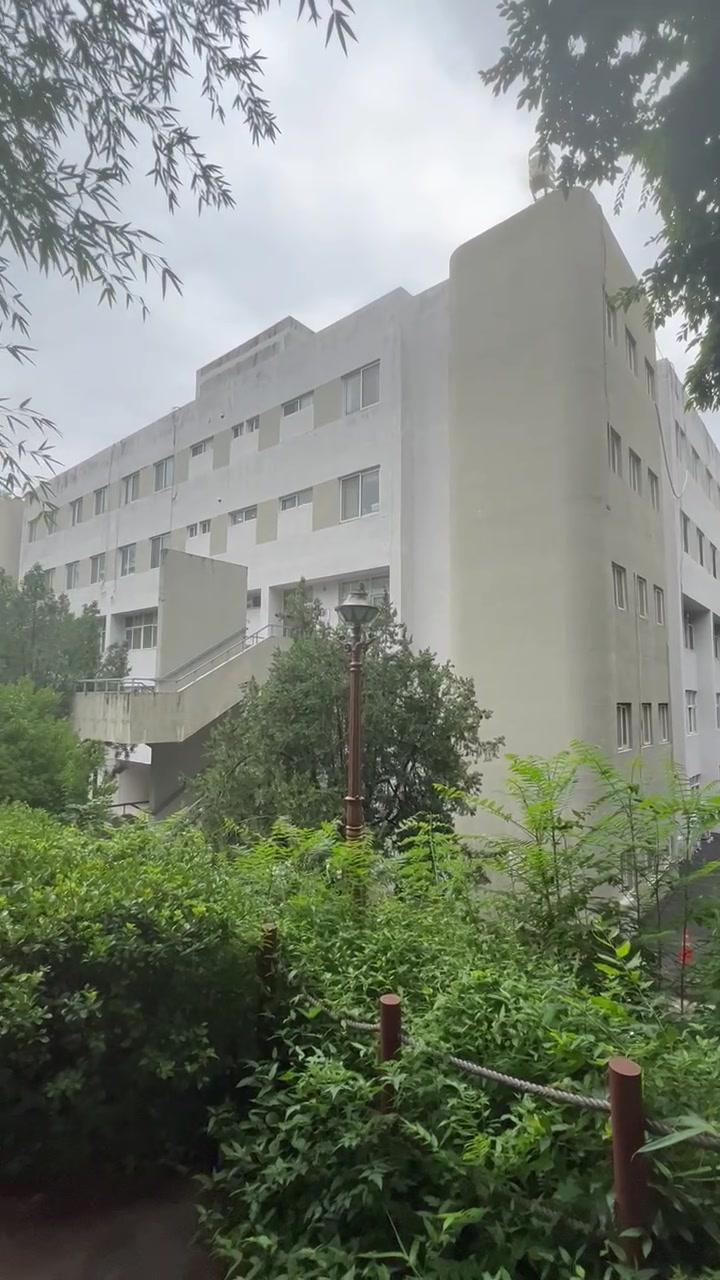building: (74, 236, 660, 658)
